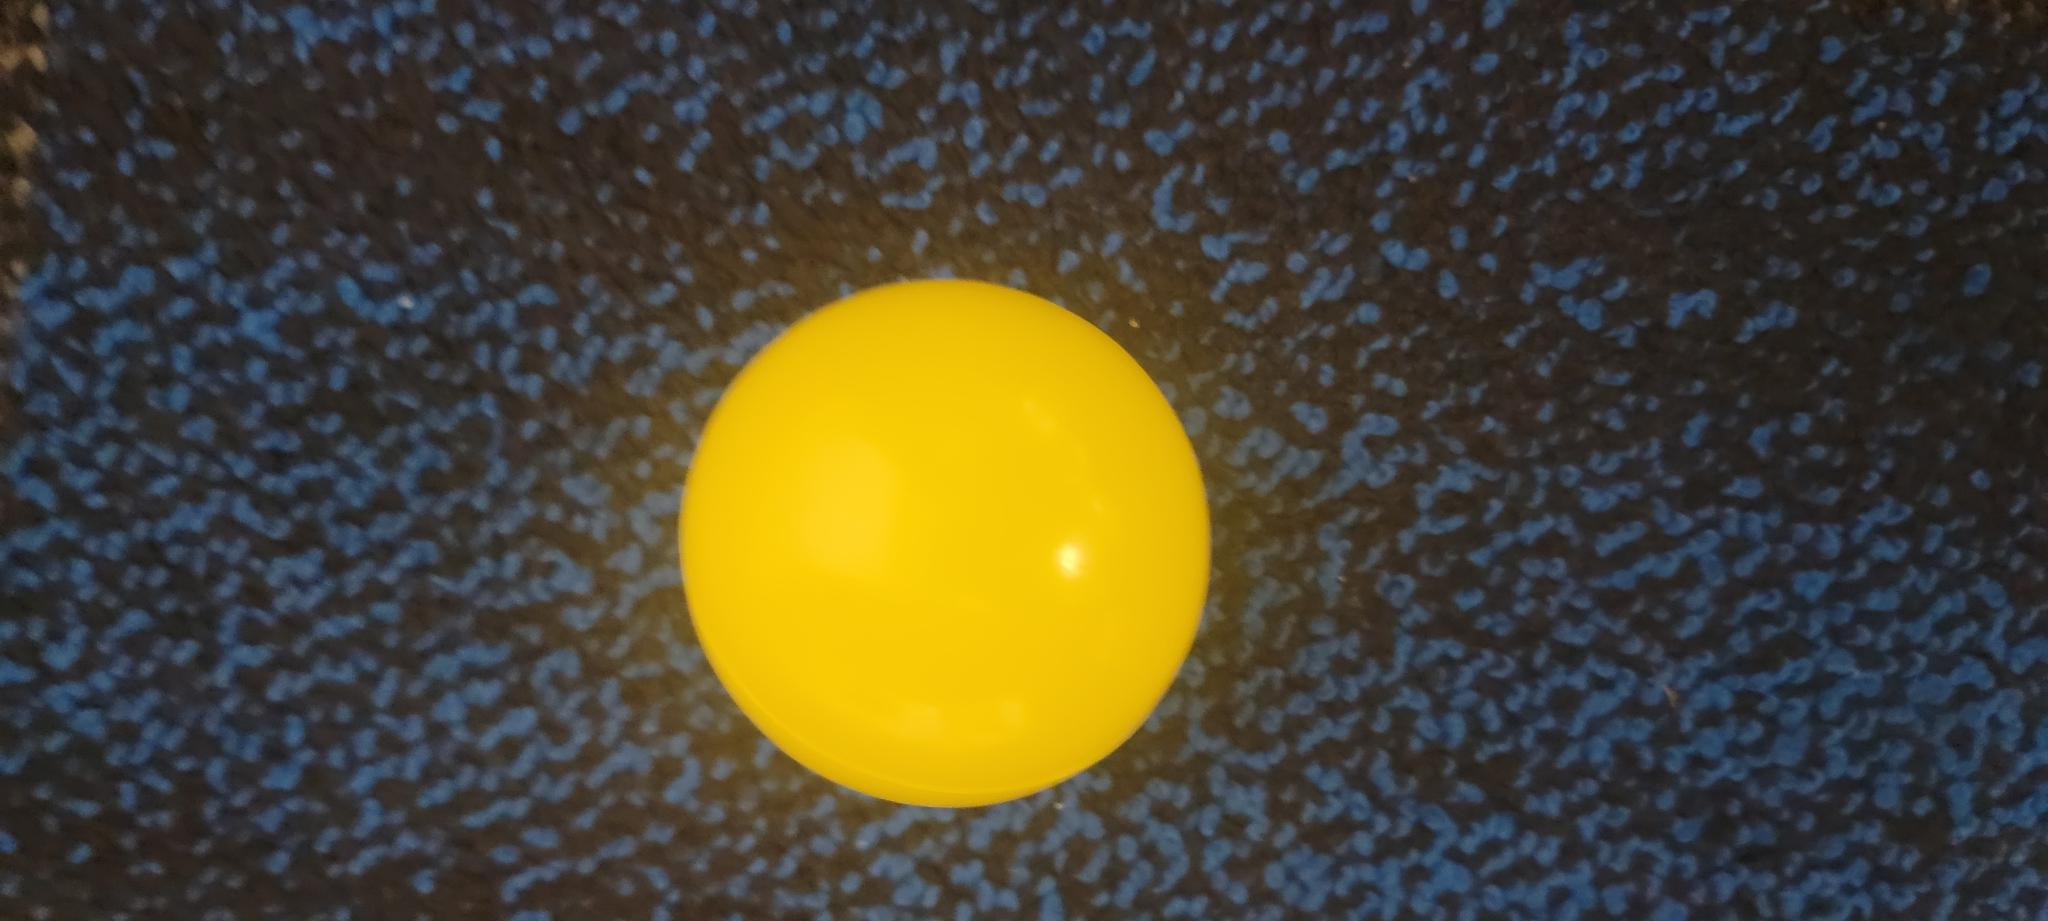Yellow-Ball: (112, 679, 647, 921)
